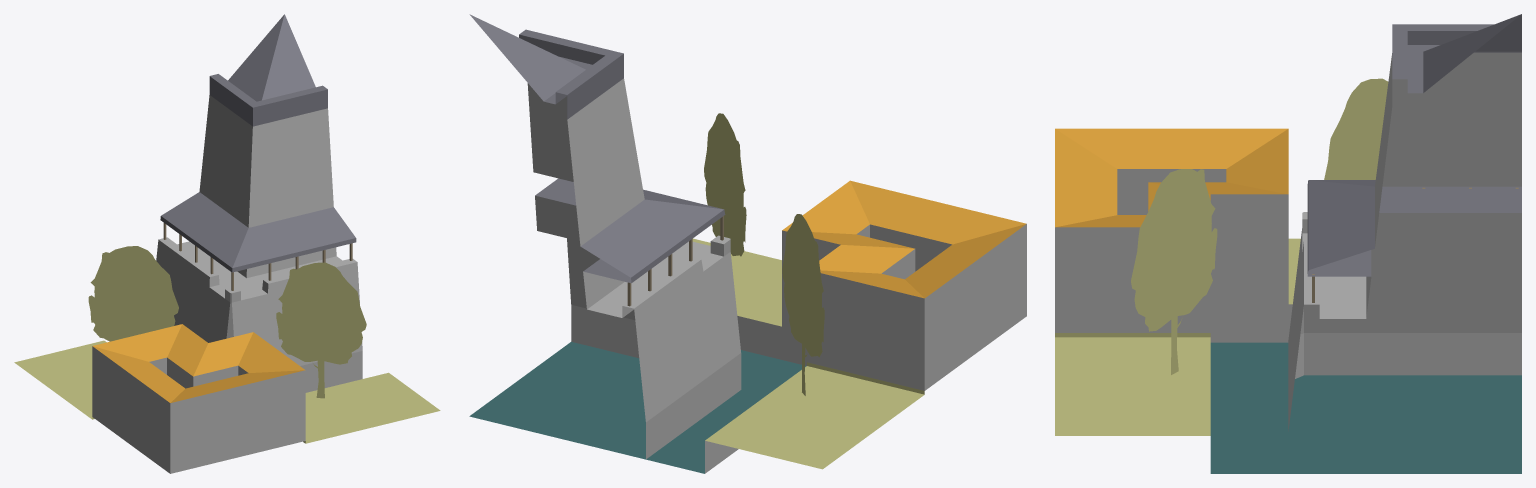
Rendered from wcw2.obj.
3 renders of one model, left to right at view 1: azimuth 30°, elevation 25°; view 2: azimuth 150°, elevation 25°; view 3: azimuth 270°, elevation 25°, orthographic. The views are drawn at different scales.
Parts seen in each view (by area): view 1: wcw2; view 2: wcw2; view 3: wcw2.
Boxes of the visible parts, x1=… form: wcw2: x1=14, y1=14, x2=440, y2=473; wcw2: x1=469, y1=14, x2=1026, y2=473; wcw2: x1=1055, y1=14, x2=1521, y2=473.
Size of the model in its own units: 30 by 32.63 by 30.
